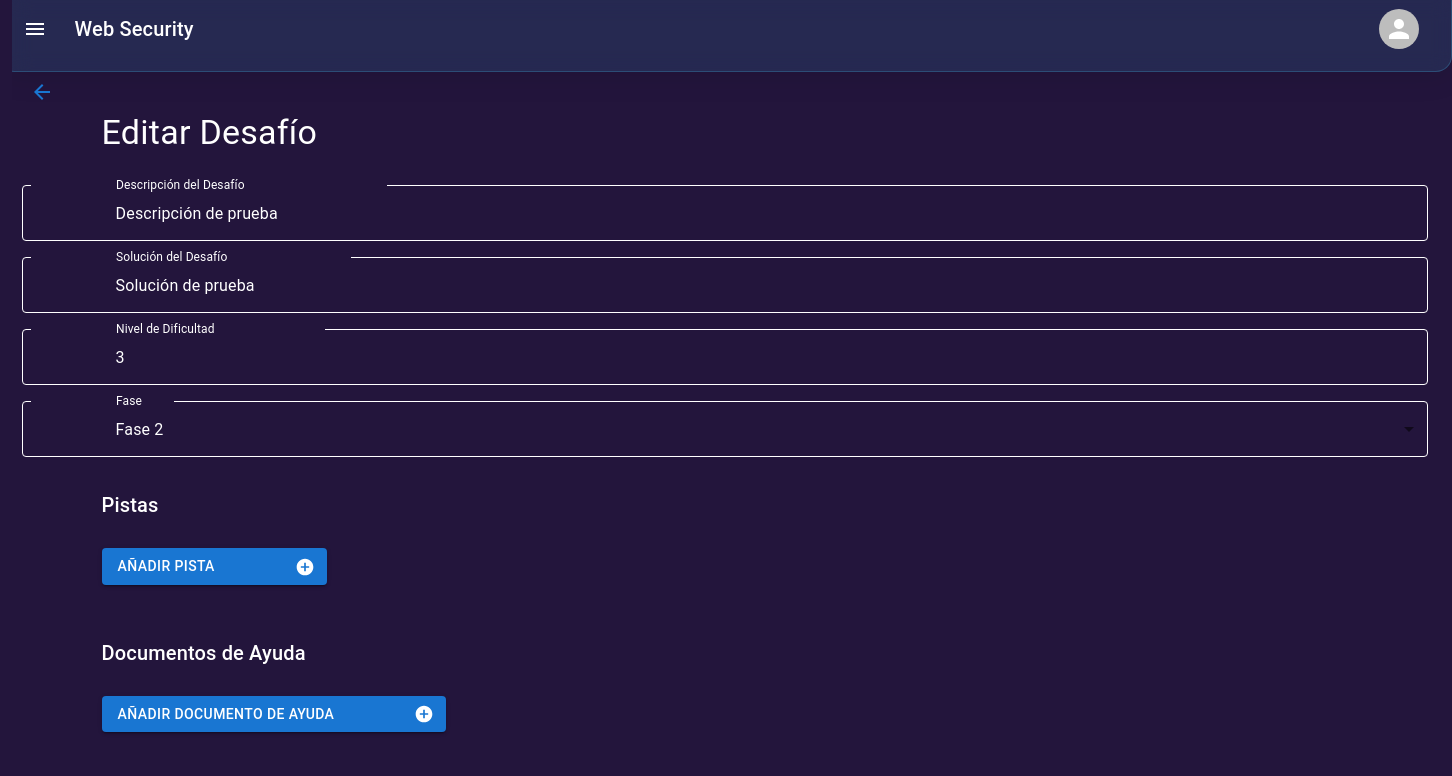
Test: EditChallenge Page › adds and removes documentos de ayuda
The width and height of the screenshot is (1452, 776).
Step 1. Click the button "Añadir Documento de Ayuda" → (274, 714), box [102, 696, 446, 732]
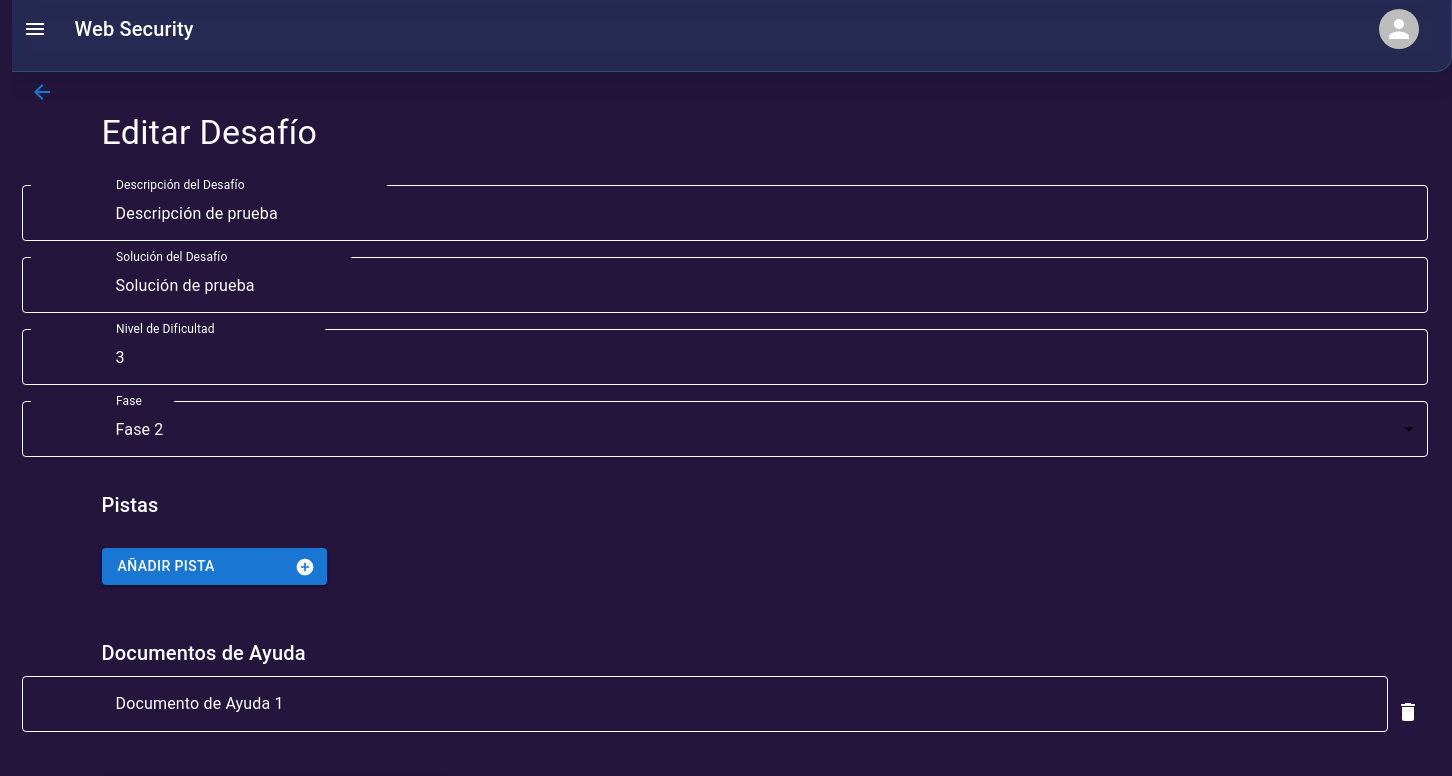
Check: the number of fields labelled "Documento de Ayuda 1" is 1
Step 2. Type "Nuevo documento de ayuda" into the field labelled "Documento de Ayuda 1" → (745, 704), box [102, 676, 1388, 732]
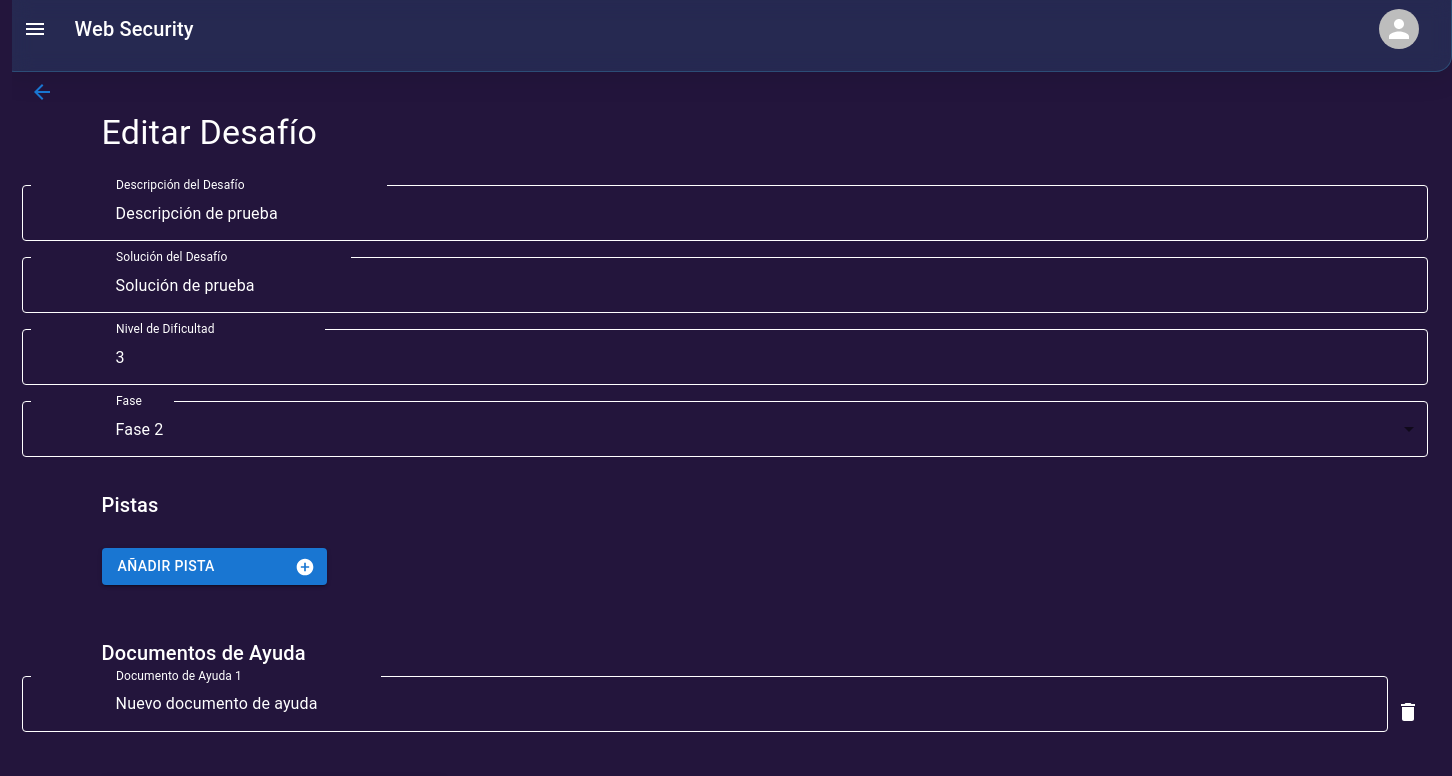
Step 3. Click the button with test id "DeleteIcon" → (1408, 712), box [1388, 692, 1428, 732]
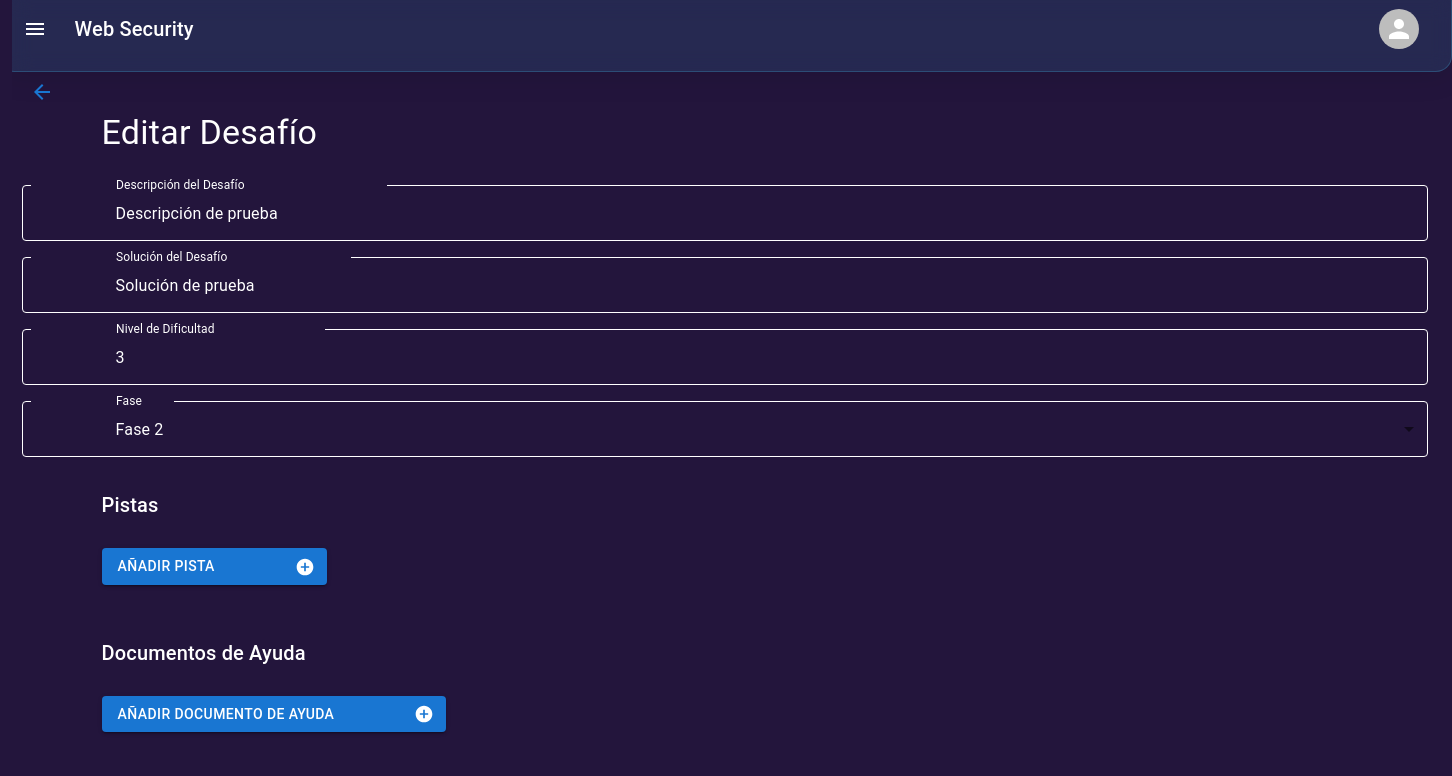
Check: the label labelled "Documento de Ayuda 1" is gone
